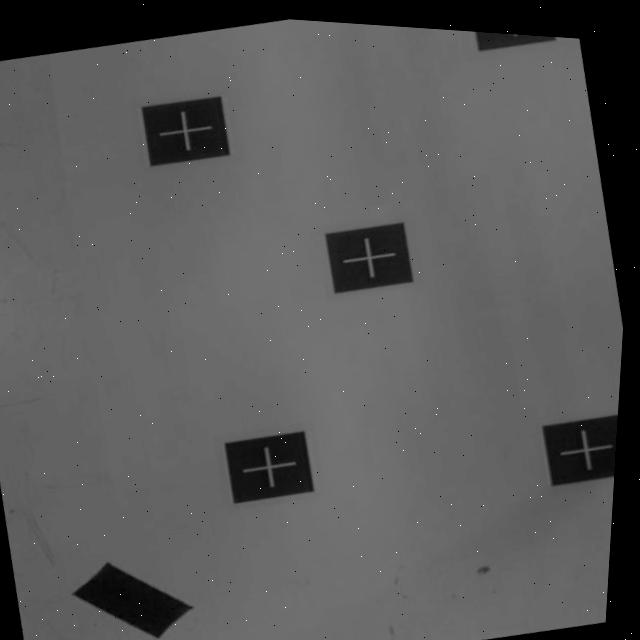dot: (321, 218, 417, 300), (223, 426, 318, 507), (137, 90, 233, 169), (541, 409, 618, 489), (464, 31, 553, 56)
